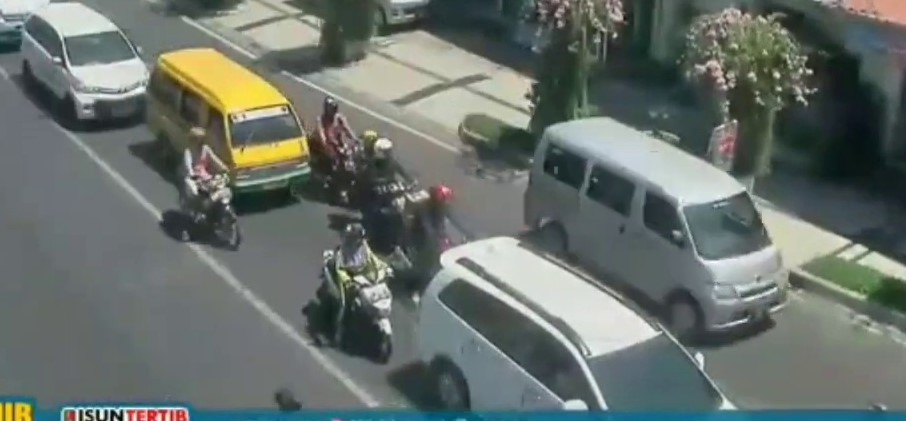car: (522, 118, 787, 340), (420, 239, 735, 417), (147, 42, 308, 203), (19, 5, 149, 135)
motorbike: (317, 219, 396, 363), (170, 129, 244, 252), (407, 182, 470, 298), (356, 129, 407, 254), (315, 100, 358, 195)
